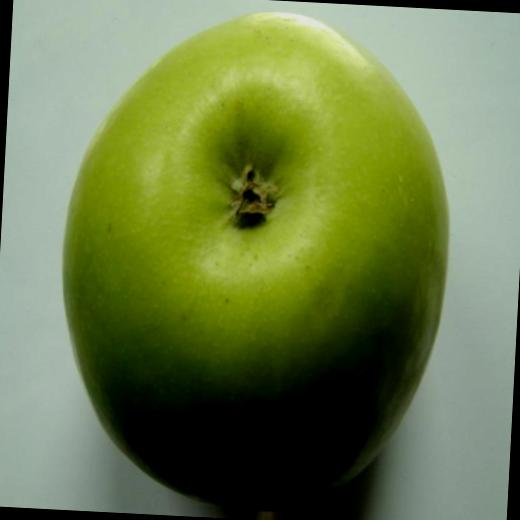Apple: (49, 1, 461, 520)
